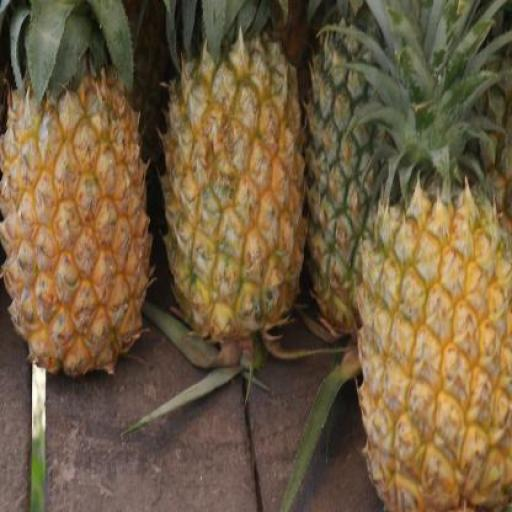------------------------------: (160, 37, 304, 343)
Pineapple - v8 v1: (359, 173, 511, 512), (0, 79, 150, 379)
